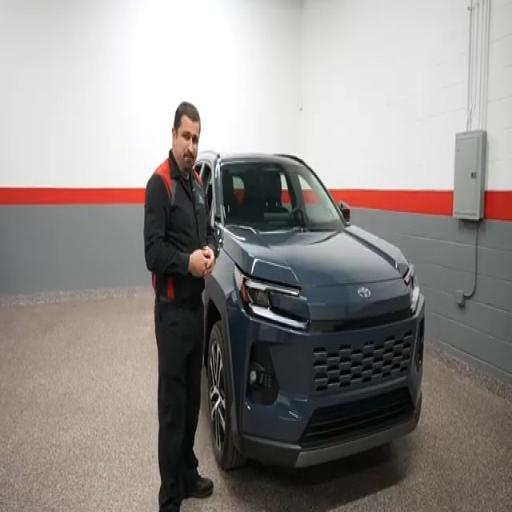bumper: (230, 296, 424, 466), (239, 396, 422, 467)
emblem: (358, 288, 371, 298)
fog_light: (416, 320, 424, 371), (249, 370, 257, 385)
grille: (300, 389, 414, 447), (314, 332, 412, 391)
headlight: (235, 268, 308, 329), (404, 265, 419, 314)
hood: (224, 227, 407, 287)
side_mirror: (339, 201, 350, 223)
wheel: (208, 322, 245, 470)
window: (200, 163, 212, 214)
windshield: (221, 160, 343, 231)
